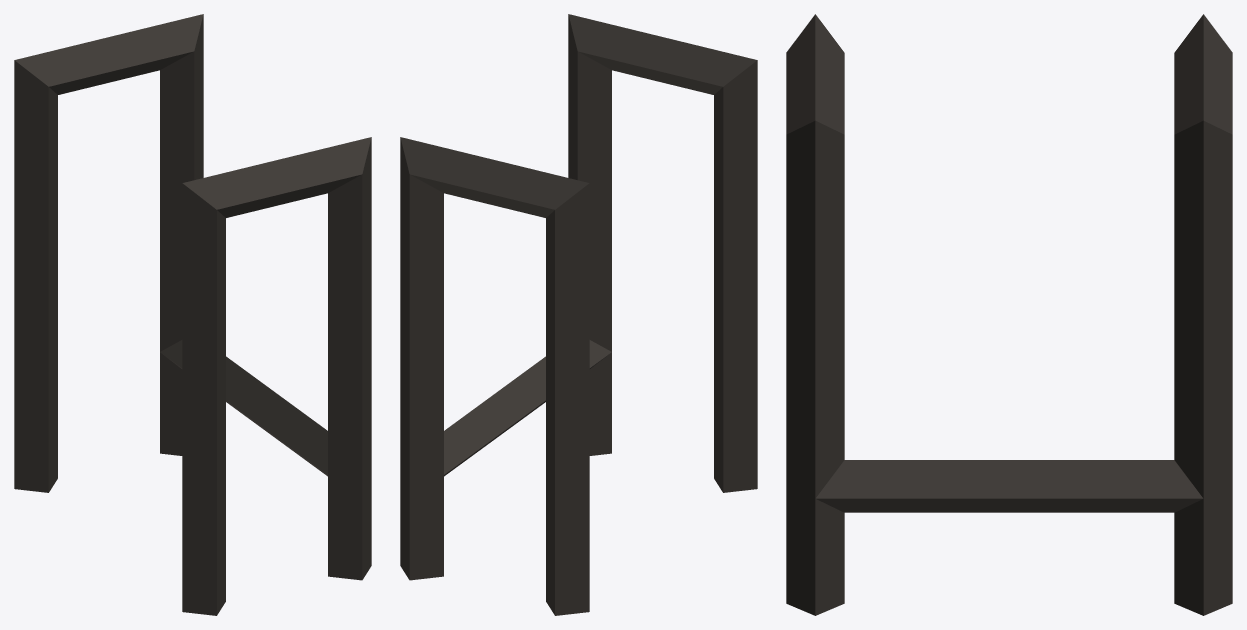
Rendered from SM_ladder_01_ending.glb.
3 views of the same model, side by side, from view 1: azimuth 30°, elevation 25°; view 2: azimuth 150°, elevation 25°; view 3: azimuth 270°, elevation 25° (orthographic). The views are drawn at different scales.
Parts seen in each view (by area): view 1: SM_ladder_01_ending; view 2: SM_ladder_01_ending; view 3: SM_ladder_01_ending.
Boxes of the visible parts, left/top/right/bottom form: SM_ladder_01_ending: left=14, top=14, right=371, bottom=615; SM_ladder_01_ending: left=400, top=14, right=757, bottom=615; SM_ladder_01_ending: left=786, top=14, right=1232, bottom=615.
Bounding box in the file's own units: 0.4875 × 1.06 × 0.8625.
1 material, 1 textured.
